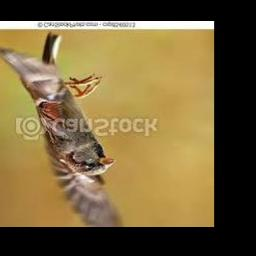Sparrow: (0, 32, 122, 227)
